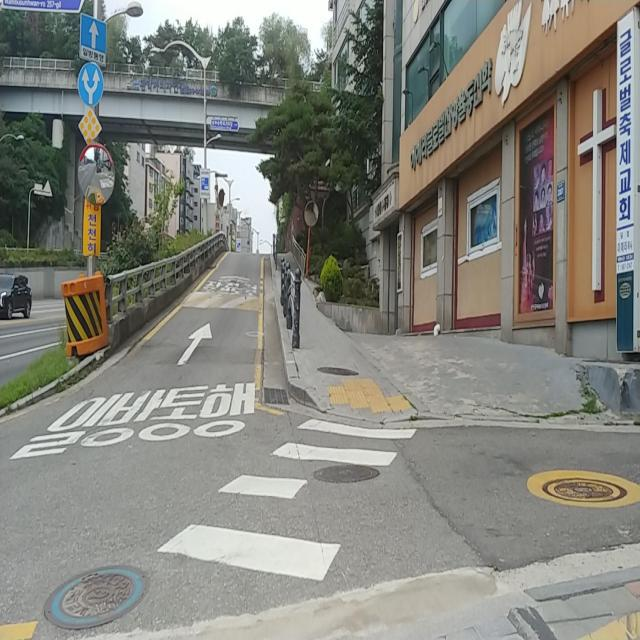횡단보도: (154, 413, 418, 588)
